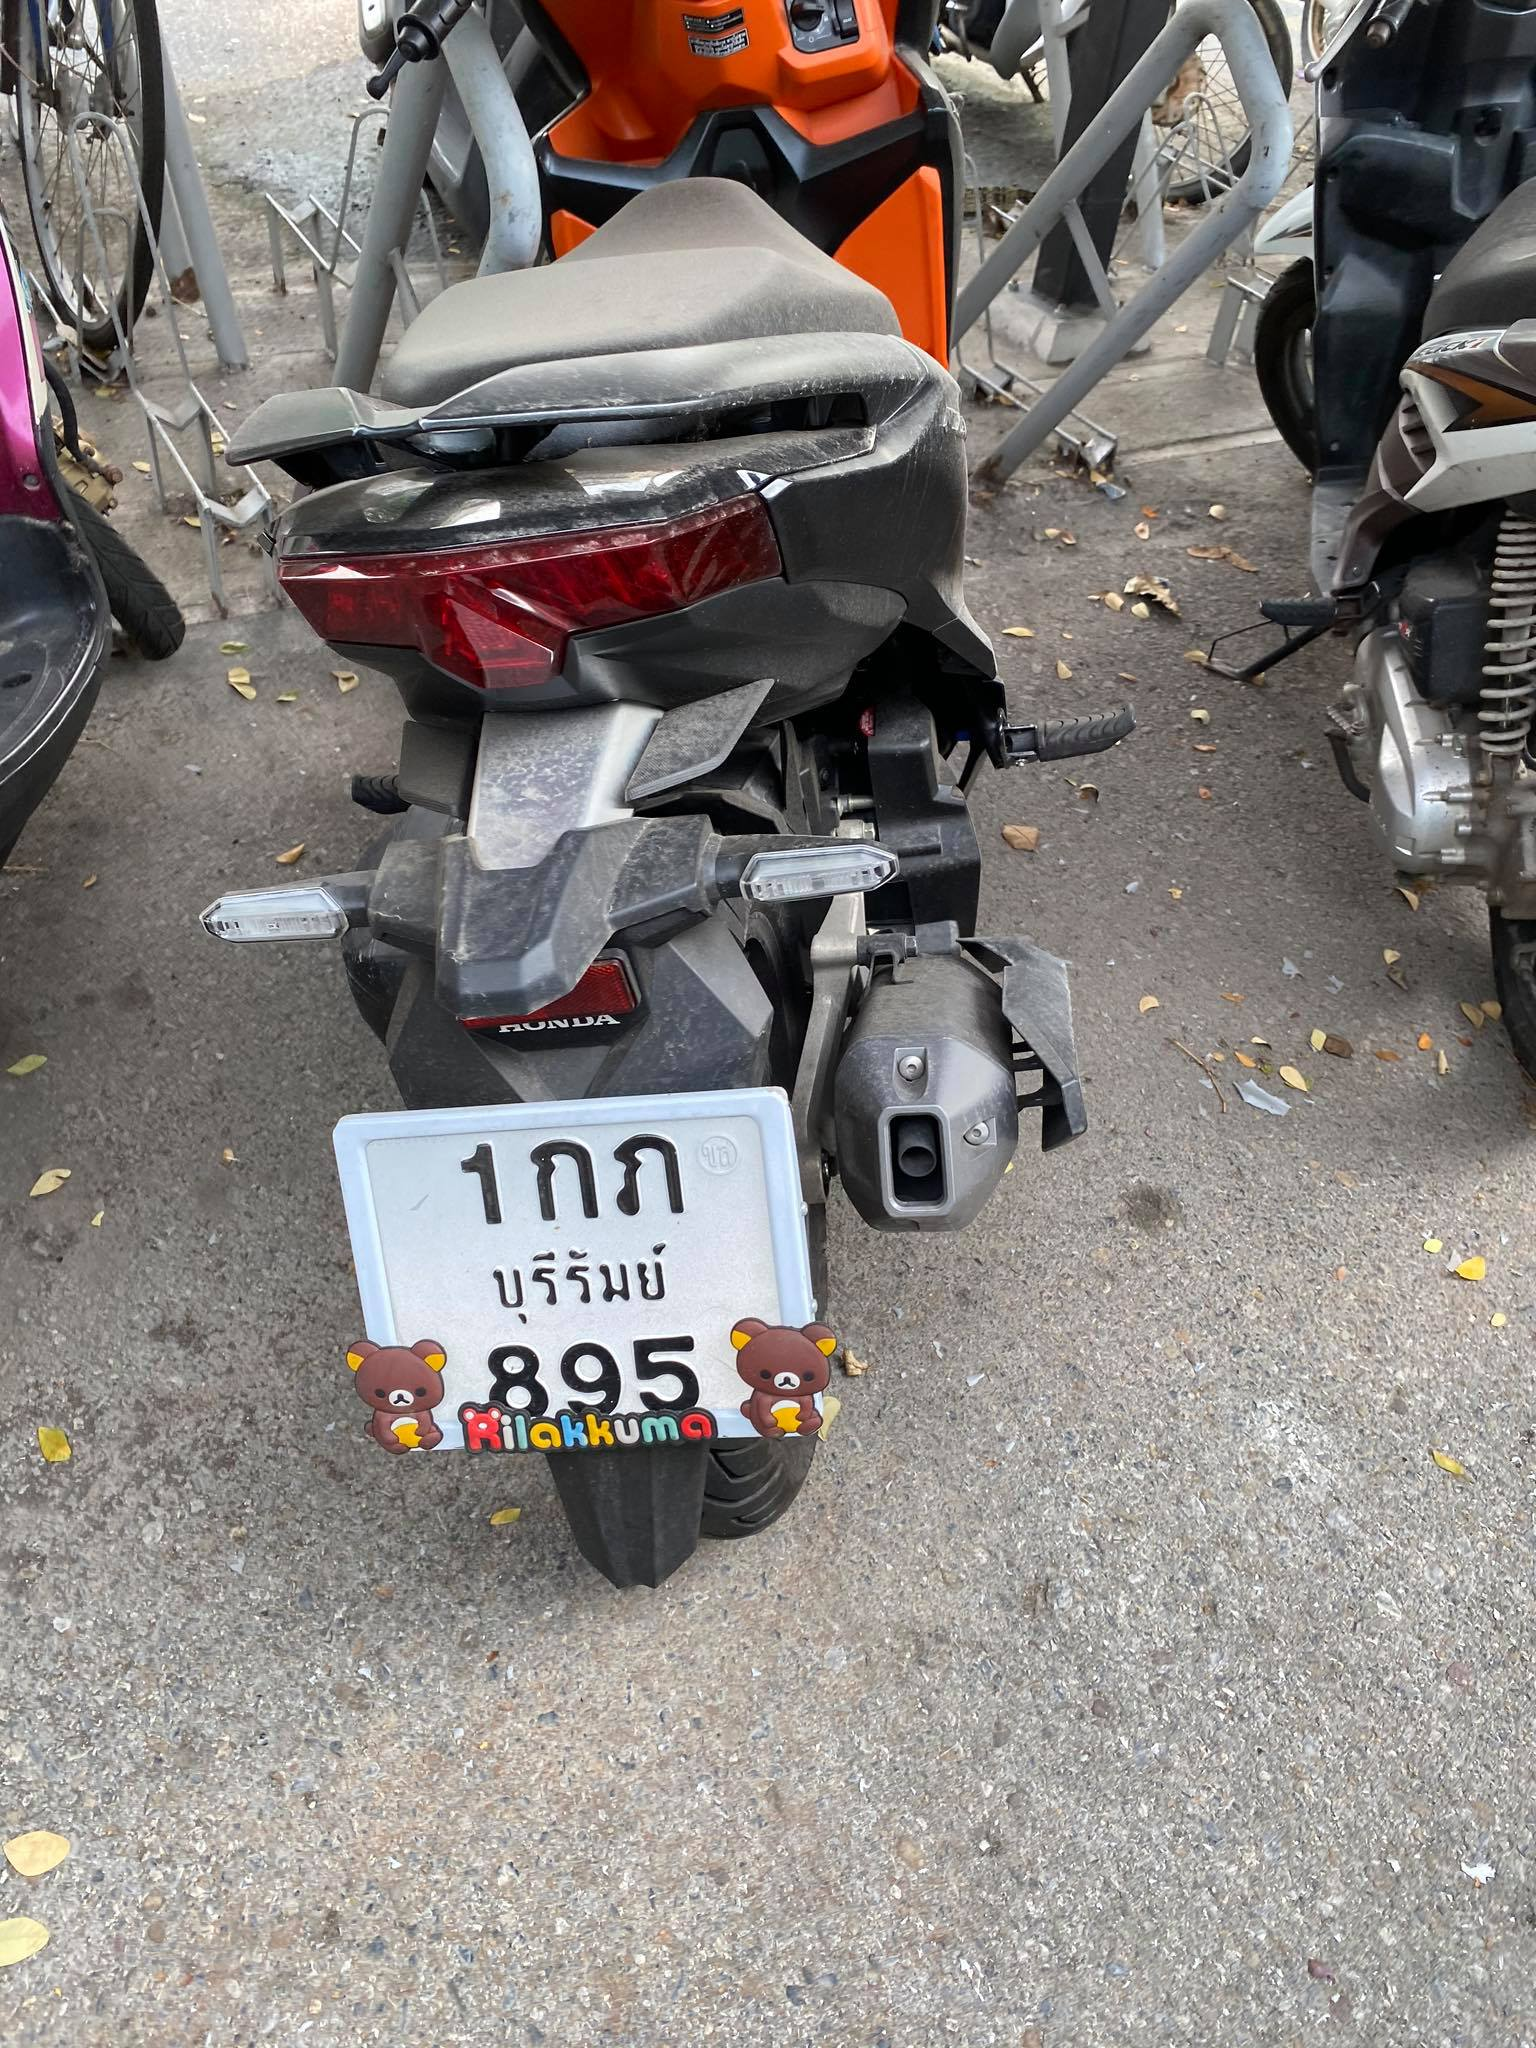line1: (453, 1127, 686, 1222)
line2: (487, 1238, 671, 1334)
line3: (486, 1338, 707, 1421)
